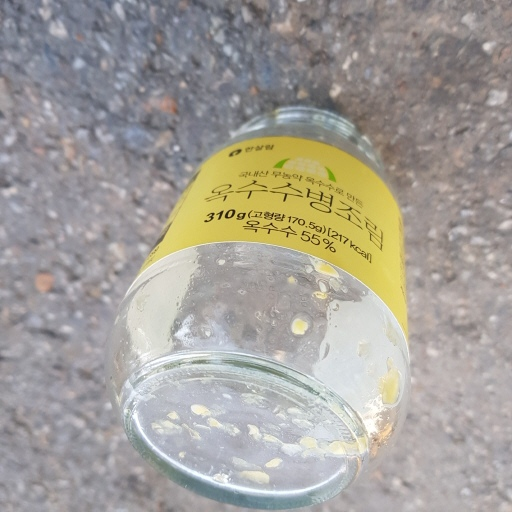Glass_5: (105, 103, 415, 507)
